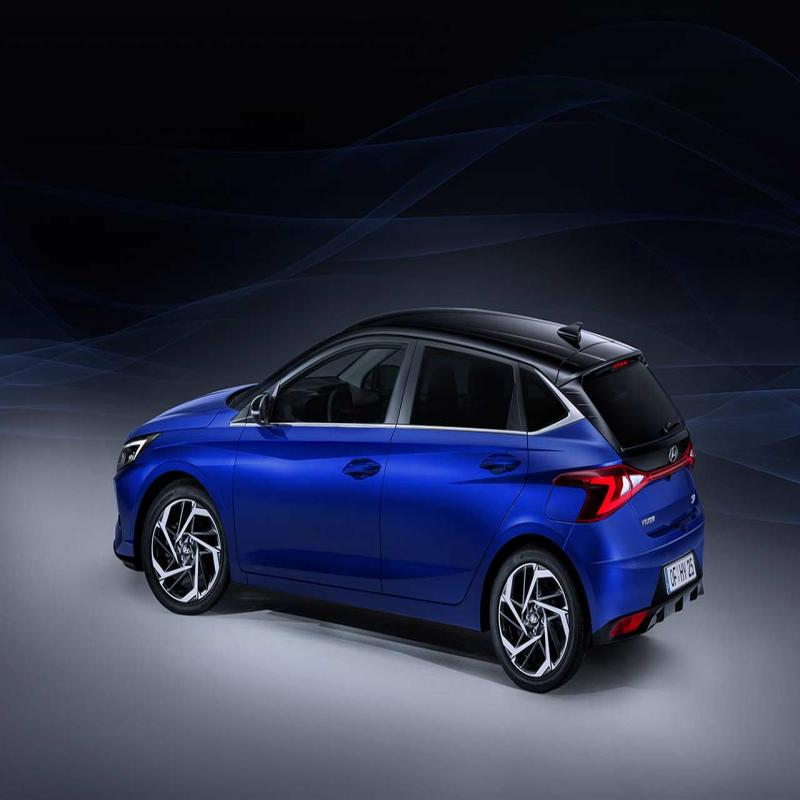car: (98, 285, 710, 692)
